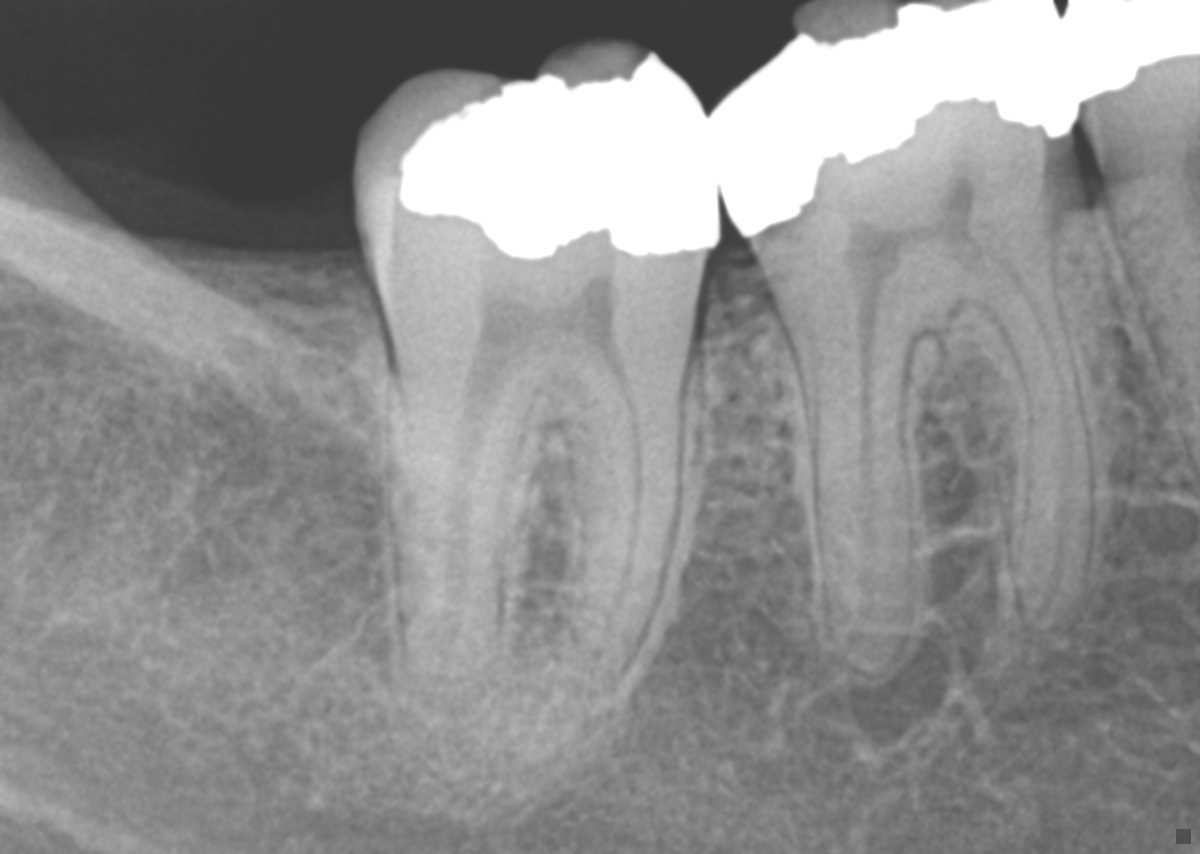Distal Canal: (434, 359, 514, 674), (845, 260, 904, 656)
Distal Root: (750, 242, 927, 685), (386, 346, 538, 677)
Main Root: (1110, 158, 1200, 481)
Mesial Canal: (589, 356, 643, 670)
Mesial Root: (930, 208, 1097, 635), (547, 353, 686, 682)
